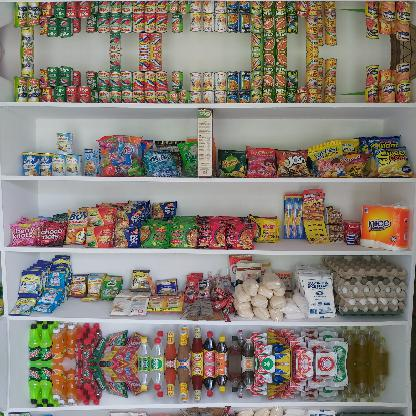Koko-Krunch: (198, 108, 212, 178)
